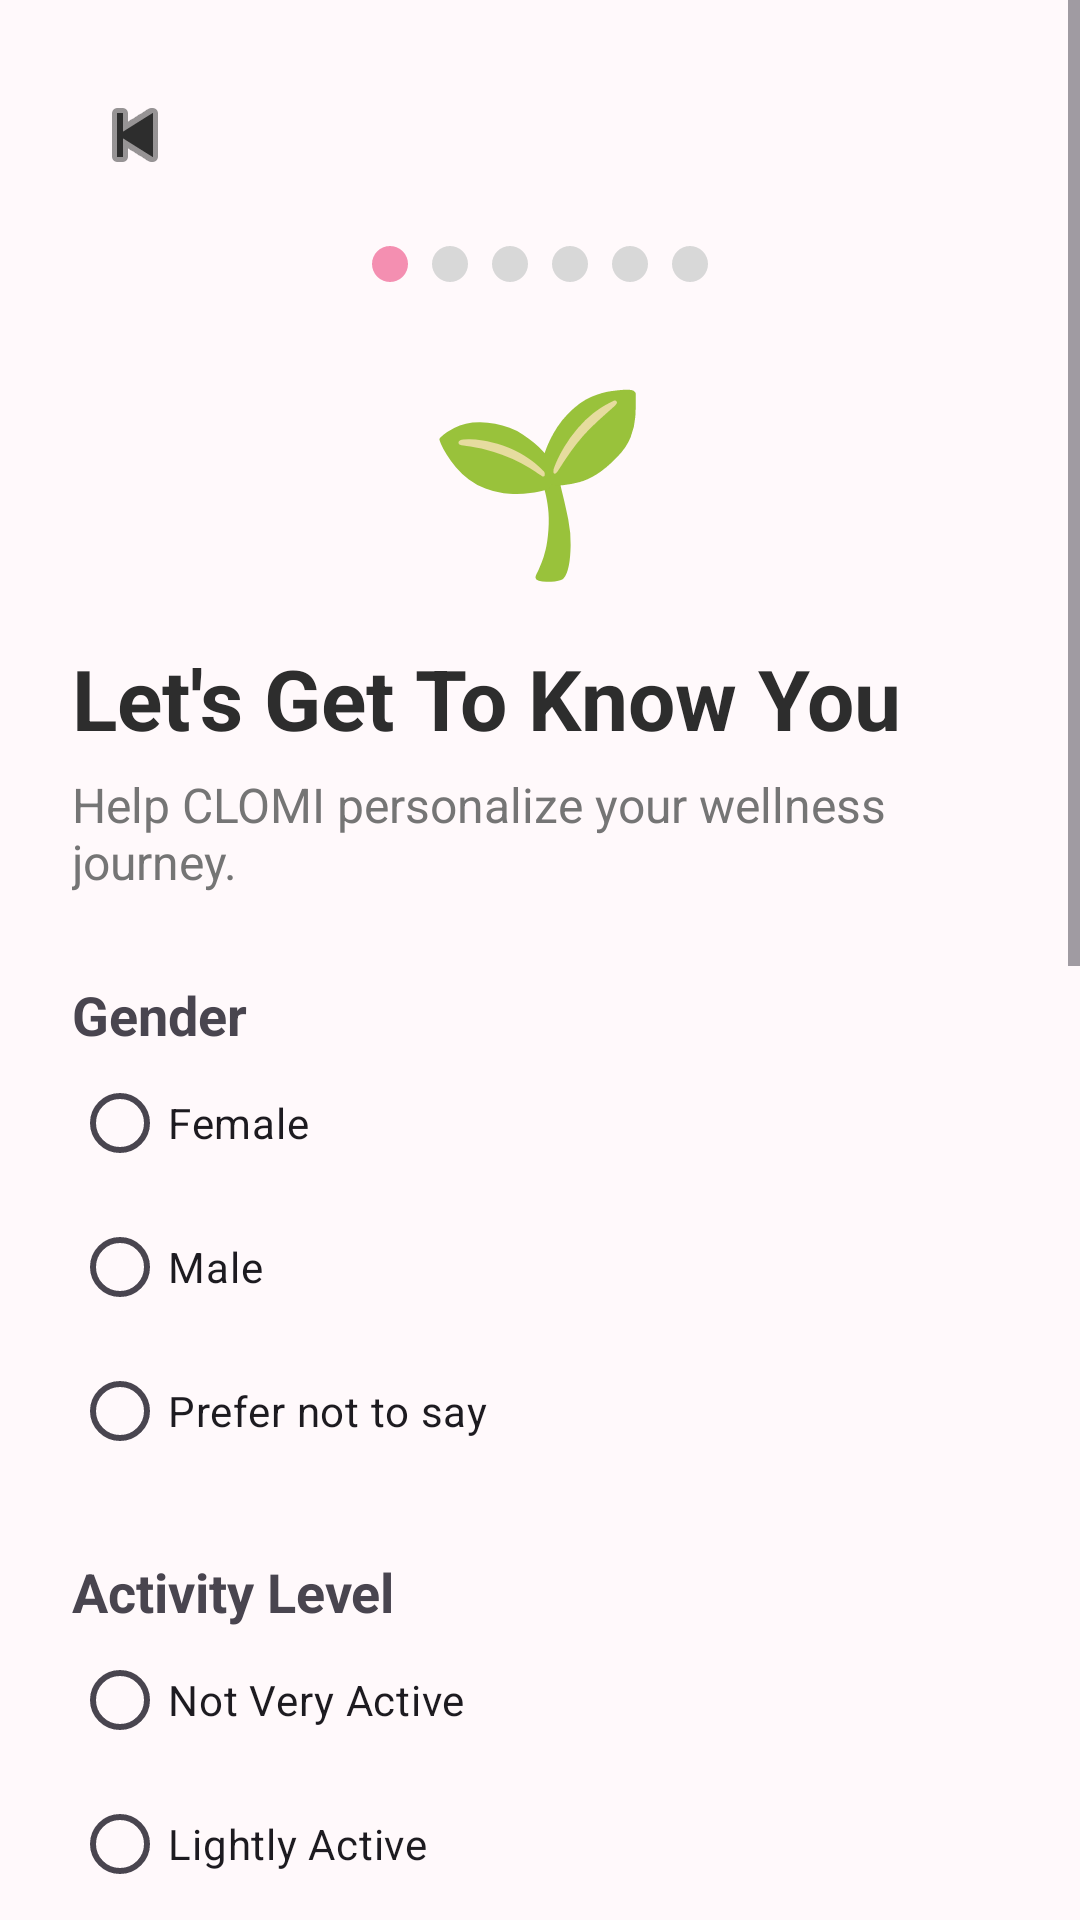

Named icons in this screenshot (1080w x 1920h) and their centers, (x=x, y=y):
Back: (x=135, y=135)
